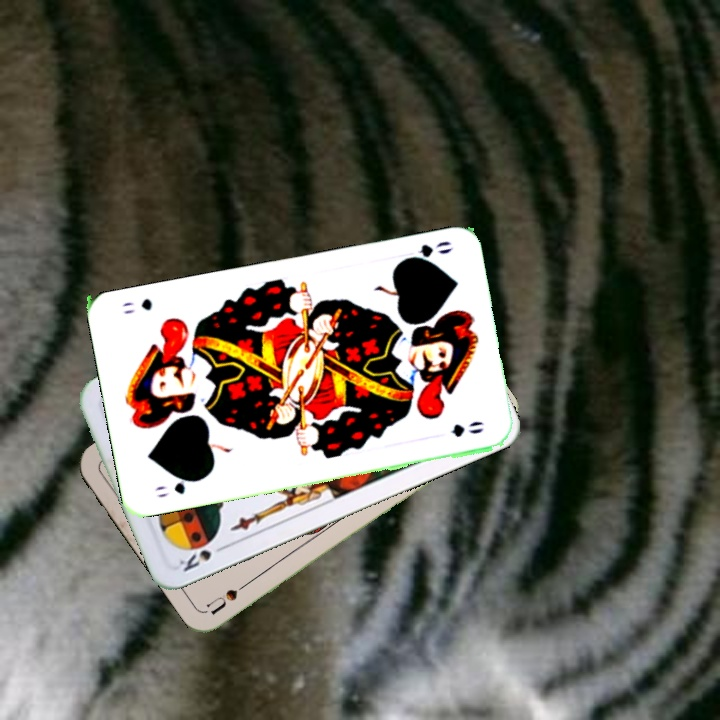GO: (397, 237, 455, 266), (151, 474, 203, 501)
SK: (174, 535, 230, 575)
SU: (203, 574, 257, 619)
